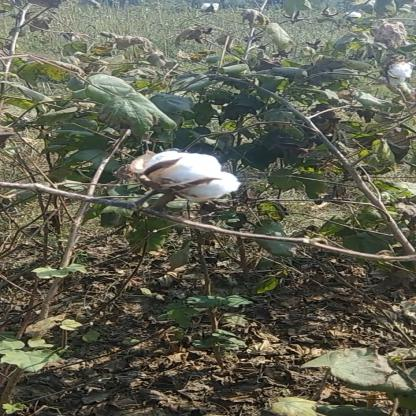cotton_ready: (133, 141, 237, 220)
